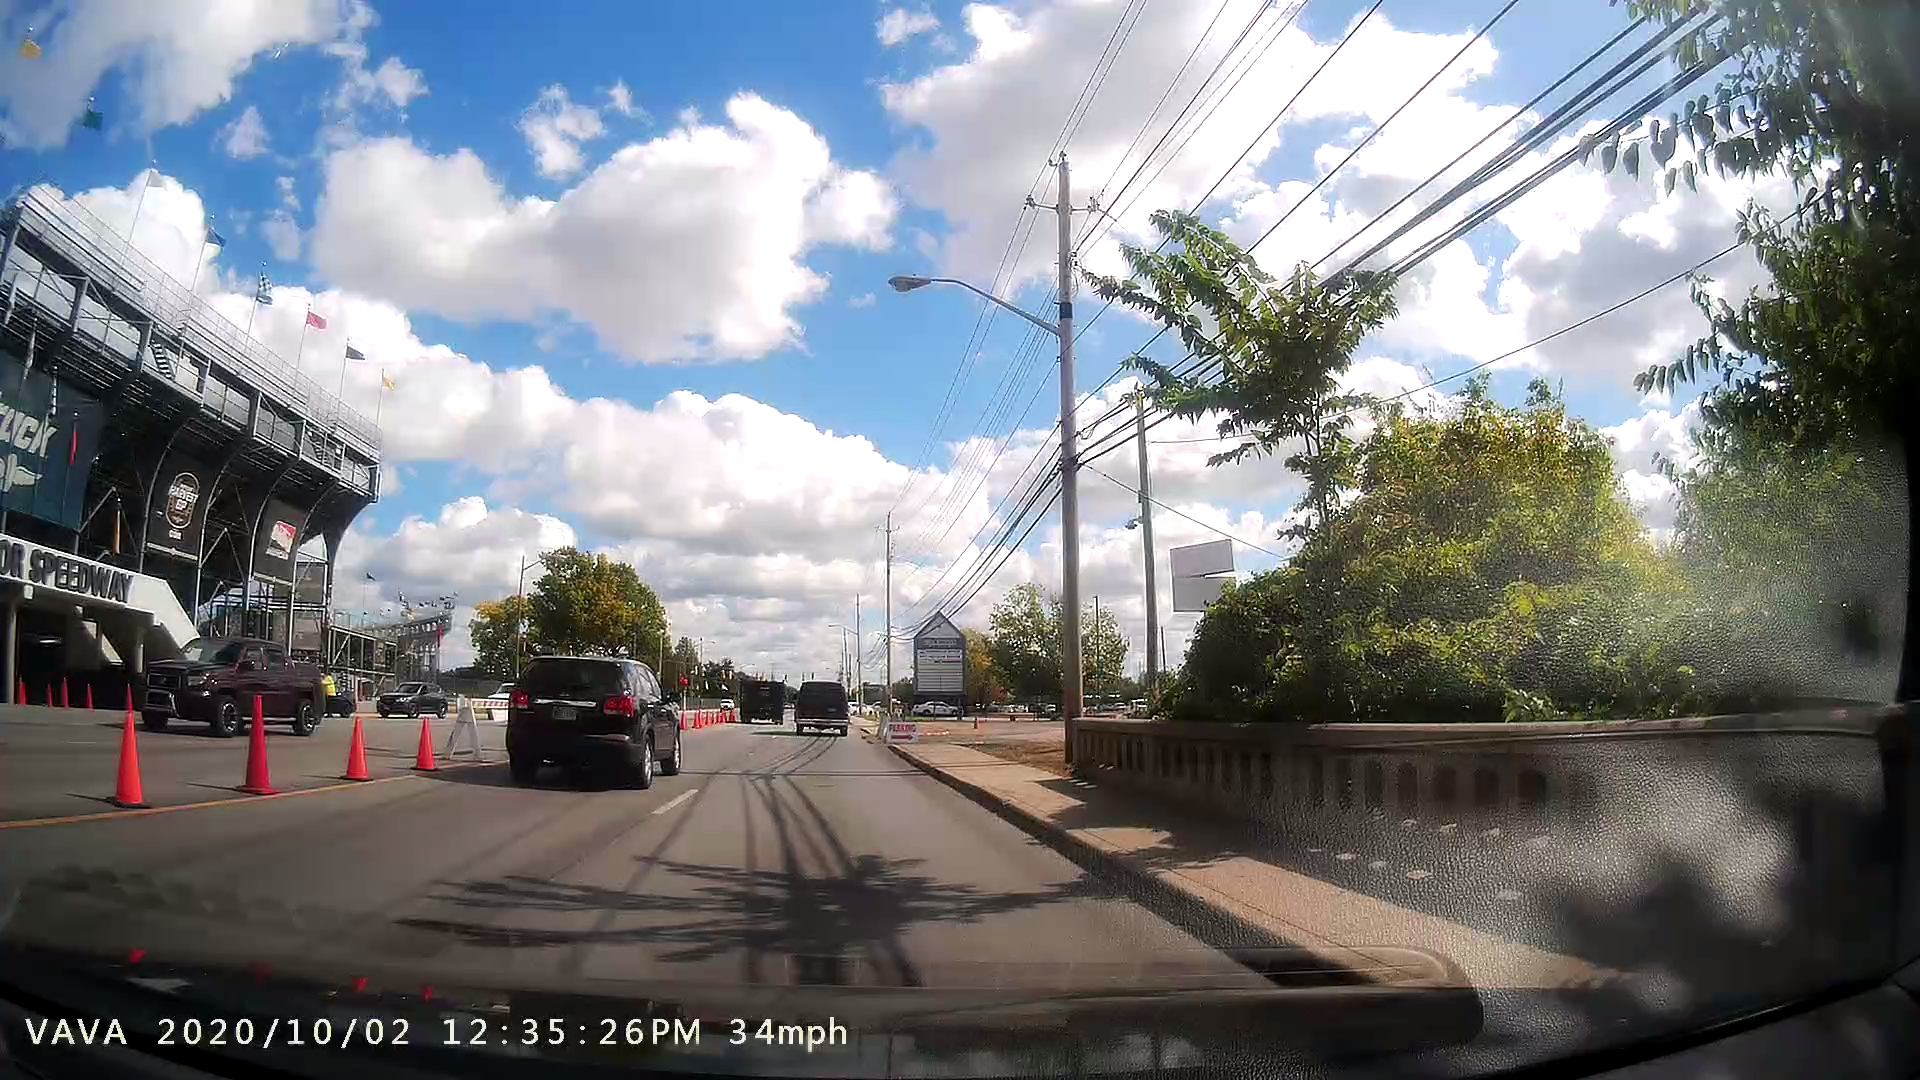const_cone: (91, 711, 179, 819), (218, 695, 289, 799), (324, 702, 389, 796), (407, 713, 444, 774)
